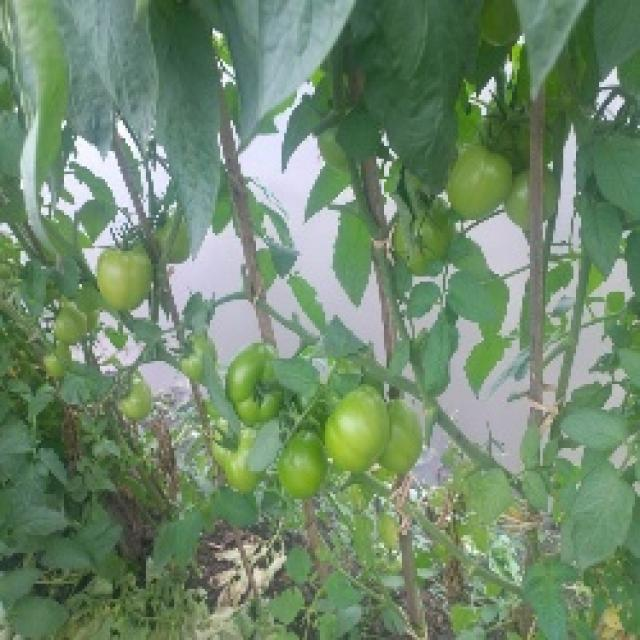tomato: (324, 389, 389, 484), (383, 203, 466, 277), (445, 138, 513, 224), (100, 232, 167, 314), (226, 343, 282, 428), (380, 393, 433, 475), (274, 437, 331, 498), (182, 338, 231, 390), (117, 377, 163, 425), (56, 300, 93, 359), (481, 1, 521, 54), (503, 169, 528, 221), (44, 353, 66, 371)
